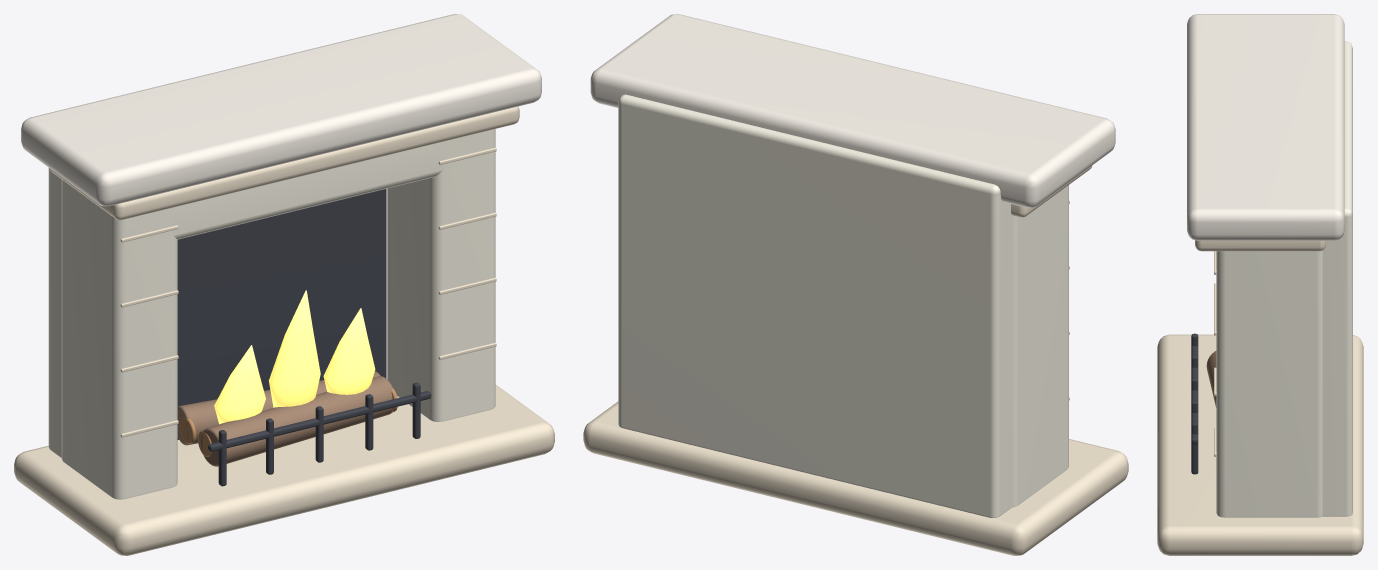
File: livingFireplaceCream.glb
3 views of the same model, side by side, from view 1: azimuth 30°, elevation 25°; view 2: azimuth 150°, elevation 25°; view 3: azimuth 270°, elevation 25° (orthographic). The views are drawn at different scales.
Parts seen in each view (by area): view 1: Broad fireplace mantel, Stone hearth, Cream stone pillar, Dark firebox recess, Cream stone pillar.001, Fireplace arch lintel, Mantel trim, Firewood log, Fireplace rear wall, Soft teardrop flame.001, Soft teardrop flame.002, Soft teardrop flame (+2 smaller); view 2: Fireplace rear wall, Broad fireplace mantel, Stone hearth, Cream stone pillar; view 3: Broad fireplace mantel, Cream stone pillar.001, Stone hearth, Fireplace rear wall, Mantel trim, Fireplace grate rail, Fireplace grate bar.004, Firewood log.
Boxes of the visible parts, left/top/right/bottom form: Broad fireplace mantel: left=21, top=14, right=541, bottom=206; Stone hearth: left=14, top=384, right=554, bottom=555; Cream stone pillar: left=61, top=179, right=177, bottom=499; Dark firebox recess: left=177, top=189, right=386, bottom=439; Cream stone pillar.001: left=387, top=129, right=495, bottom=421; Fireplace arch lintel: left=128, top=141, right=443, bottom=245; Mantel trim: left=50, top=106, right=519, bottom=219; Firewood log: left=200, top=376, right=392, bottom=466; Fireplace rear wall: left=48, top=168, right=387, bottom=457; Soft teardrop flame.001: left=269, top=290, right=320, bottom=407; Soft teardrop flame.002: left=323, top=308, right=375, bottom=394; Soft teardrop flame: left=214, top=345, right=265, bottom=424; Fireplace rear wall: left=618, top=94, right=1012, bottom=517; Broad fireplace mantel: left=590, top=14, right=1115, bottom=207; Stone hearth: left=583, top=401, right=1128, bottom=555; Cream stone pillar: left=1012, top=185, right=1068, bottom=507; Broad fireplace mantel: left=1187, top=14, right=1344, bottom=240; Cream stone pillar.001: left=1216, top=250, right=1322, bottom=517; Stone hearth: left=1157, top=334, right=1363, bottom=555; Fireplace rear wall: left=1322, top=41, right=1352, bottom=516; Mantel trim: left=1195, top=240, right=1325, bottom=251; Fireplace grate rail: left=1191, top=346, right=1198, bottom=444; Fireplace grate bar.004: left=1191, top=422, right=1198, bottom=474; Firewood log: left=1206, top=351, right=1216, bottom=407.
Bounding box in the file's own units: 1.79 × 1.44 × 0.77.
